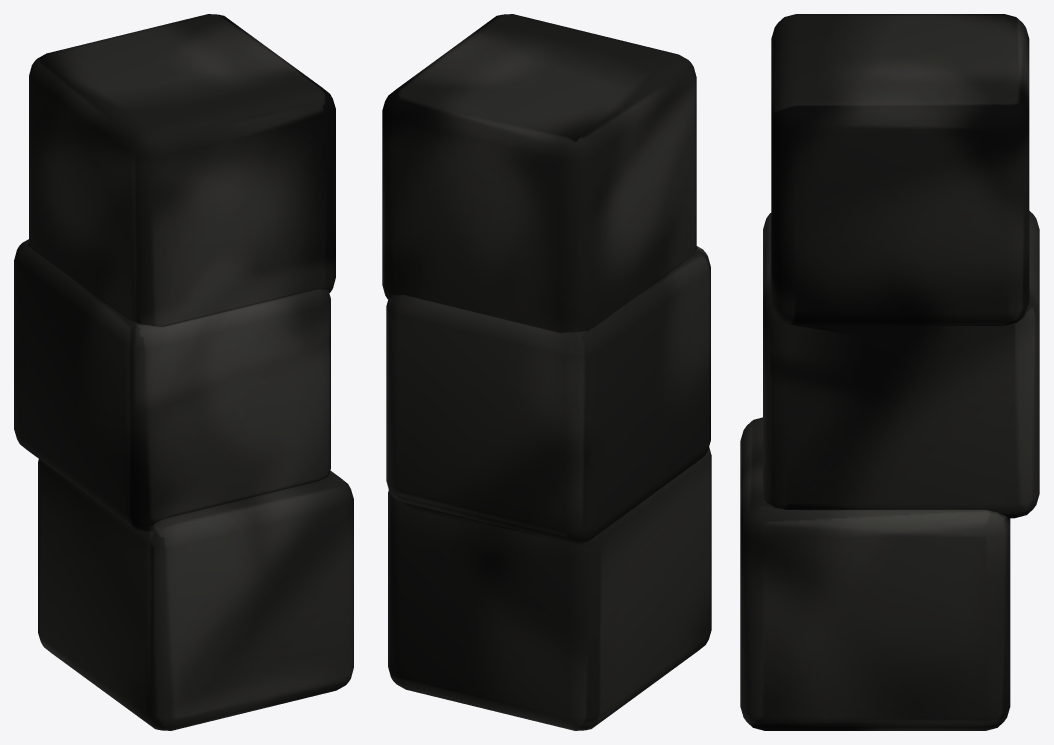
File: UR Pillars 2.fbx
The picture shows the model from 3 angles, left to right: view 1: azimuth 30°, elevation 25°; view 2: azimuth 150°, elevation 25°; view 3: azimuth 270°, elevation 25°; orthographic projection. The views are drawn at different scales.
Parts seen in each view (by area): view 1: UR Pillars 2; view 2: UR Pillars 2; view 3: UR Pillars 2.
Boxes of the visible parts, left/top/right/bottom form: UR Pillars 2: left=14, top=14, right=353, bottom=730; UR Pillars 2: left=382, top=14, right=711, bottom=730; UR Pillars 2: left=740, top=14, right=1039, bottom=730.
Size of the model in its own units: 30.87 by 81.03 by 35.07.
Materials: 1 (1 with a texture image).
